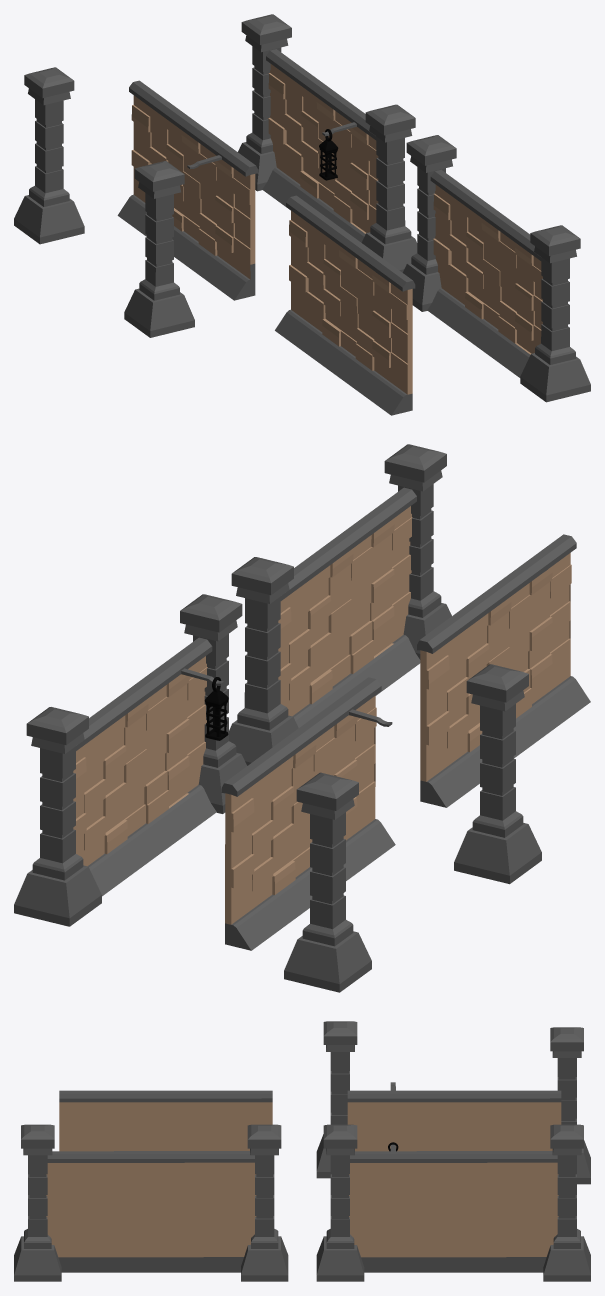
File: CourtyardWall.fbx
The picture shows the model from 3 angles, top to bottom: view 1: azimuth 30°, elevation 25°; view 2: azimuth 150°, elevation 25°; view 3: azimuth 270°, elevation 25°; orthographic projection. The views are drawn at different scales.
Parts seen in each view (by area): view 1: Cube.000, Cube.001, Cube.005, Cube.003, Cube.002, Cube.004, Plane.003; view 2: Cube.001, Cube.000, Cube.005, Cube.003, Cube.002, Cube.004, Plane.003; view 3: Cube.001, Cube.000, Cube.003, Cube.005, Cube.004, Cube.002.
Part boxes in pixels (bbox=[...]): Cube.000: bbox=[403, 135, 590, 402]; Cube.001: bbox=[238, 14, 417, 272]; Cube.005: bbox=[275, 195, 415, 415]; Cube.003: bbox=[117, 80, 258, 300]; Cube.002: bbox=[14, 67, 84, 244]; Cube.004: bbox=[124, 161, 194, 337]; Plane.003: bbox=[319, 129, 338, 180]; Cube.001: bbox=[14, 594, 246, 926]; Cube.000: bbox=[229, 444, 451, 765]; Cube.005: bbox=[417, 534, 590, 807]; Cube.003: bbox=[221, 677, 395, 950]; Cube.002: bbox=[284, 772, 371, 992]; Cube.004: bbox=[454, 664, 541, 884]; Plane.003: bbox=[204, 677, 228, 740]; Cube.001: bbox=[316, 1124, 590, 1281]; Cube.000: bbox=[14, 1124, 288, 1281]; Cube.003: bbox=[347, 1082, 561, 1151]; Cube.005: bbox=[59, 1090, 272, 1151]; Cube.004: bbox=[316, 1021, 357, 1178]; Cube.002: bbox=[550, 1027, 590, 1184].
Bounding box in the file's own units: 769 × 416 × 1518.
